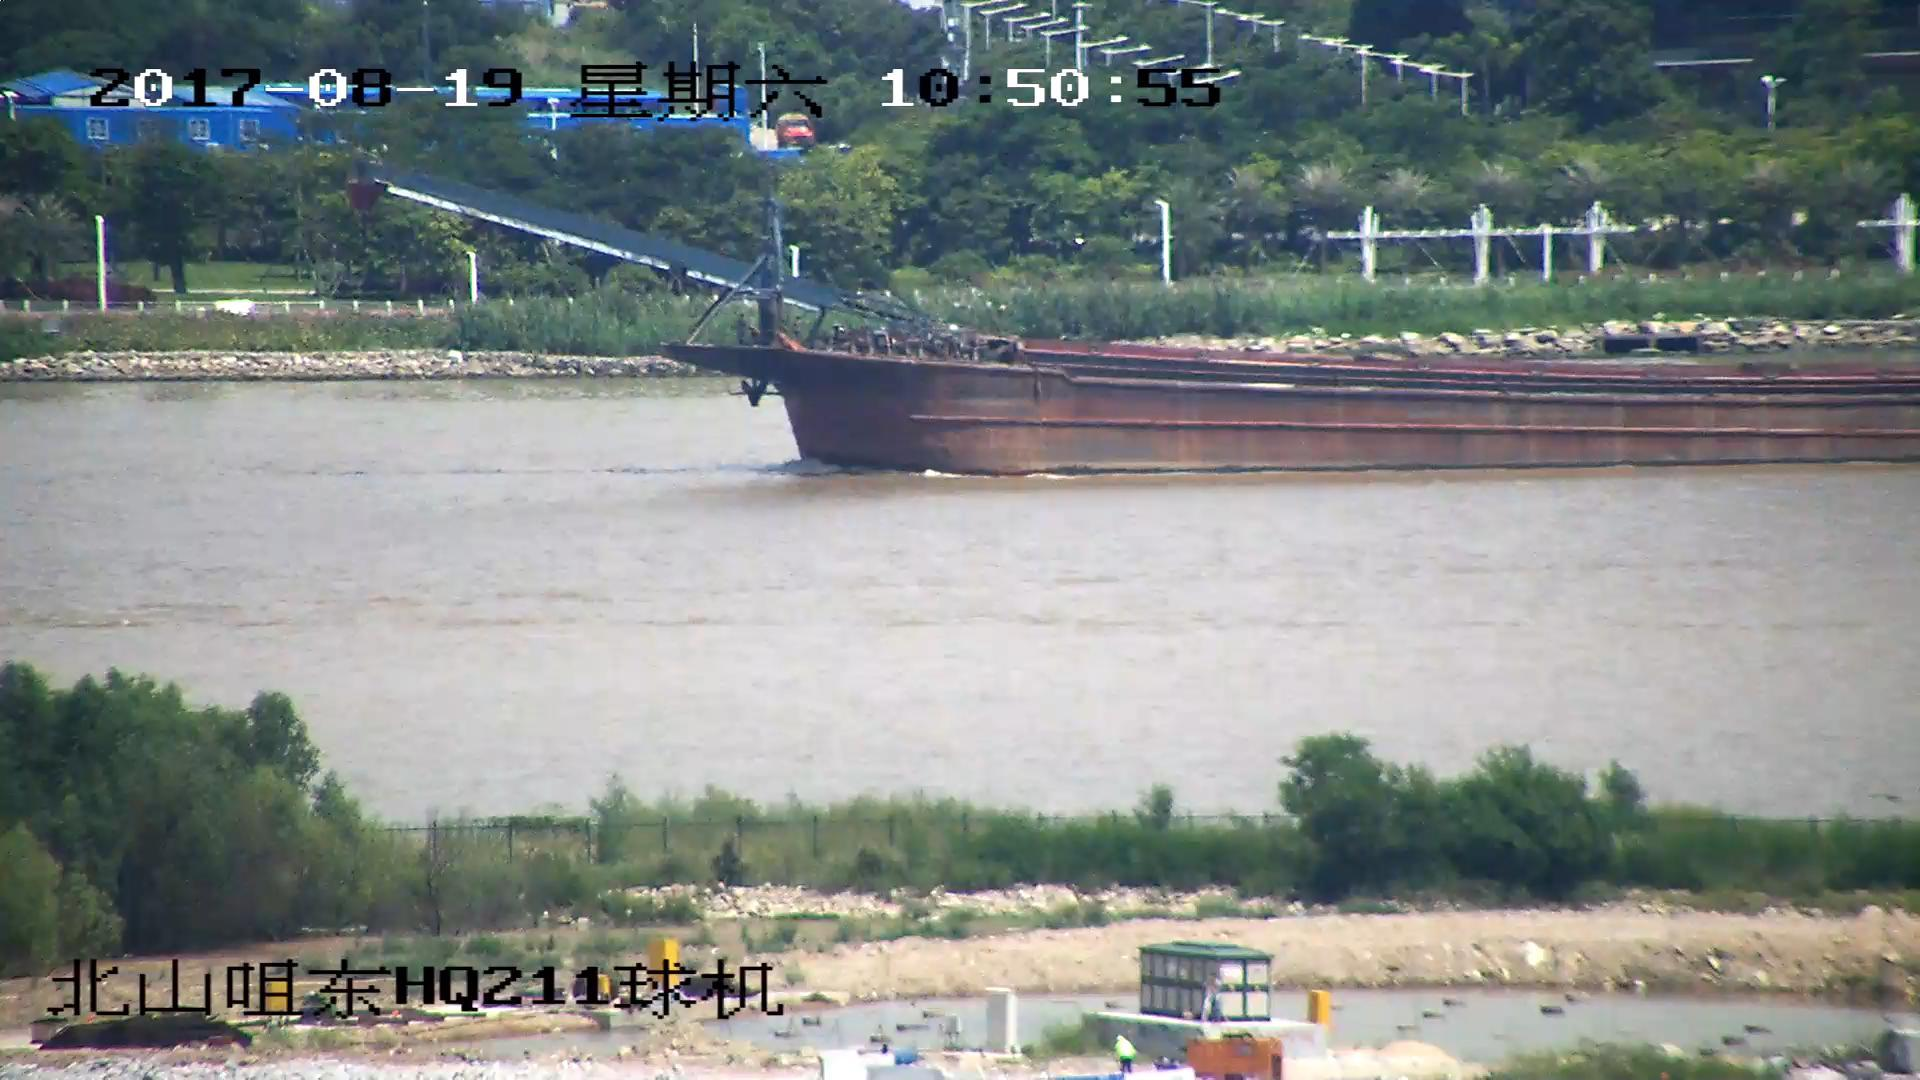Ship: (363, 165, 1920, 477)
